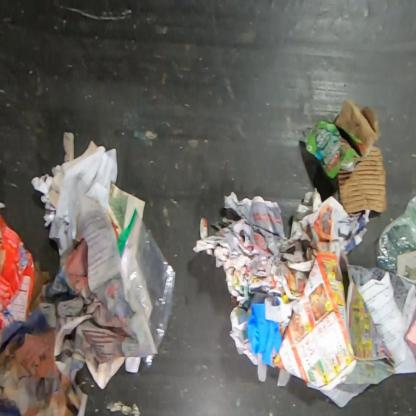cardboard: (304, 98, 379, 179), (0, 210, 35, 332), (338, 146, 388, 214), (29, 260, 52, 316)
soft_plastic: (117, 206, 176, 352), (375, 189, 416, 275), (141, 354, 156, 370)
